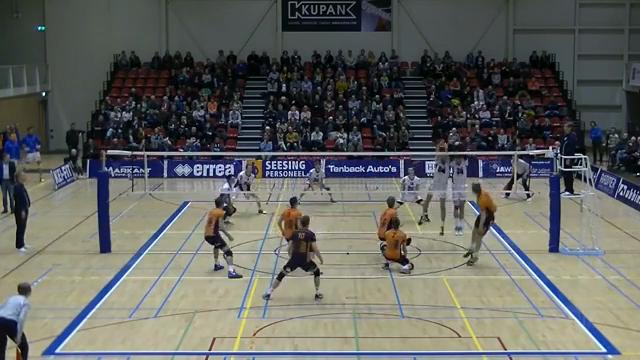Attack: (457, 176, 499, 270)
Block: (416, 138, 451, 238), (447, 135, 469, 243)
Player: (263, 215, 322, 299), (204, 198, 242, 278), (380, 217, 413, 273), (298, 162, 335, 202), (236, 163, 265, 213), (277, 196, 301, 254), (397, 167, 422, 207), (218, 175, 236, 223), (377, 196, 396, 241)
ball: (438, 139, 447, 149)
